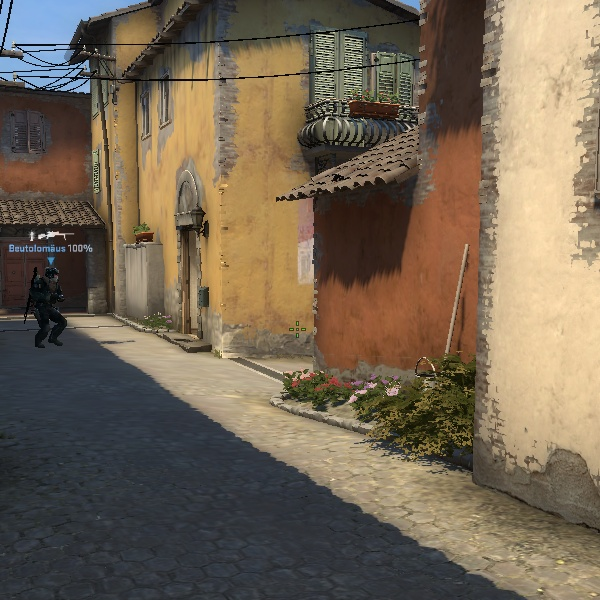ct_body: (23, 259, 74, 349)
